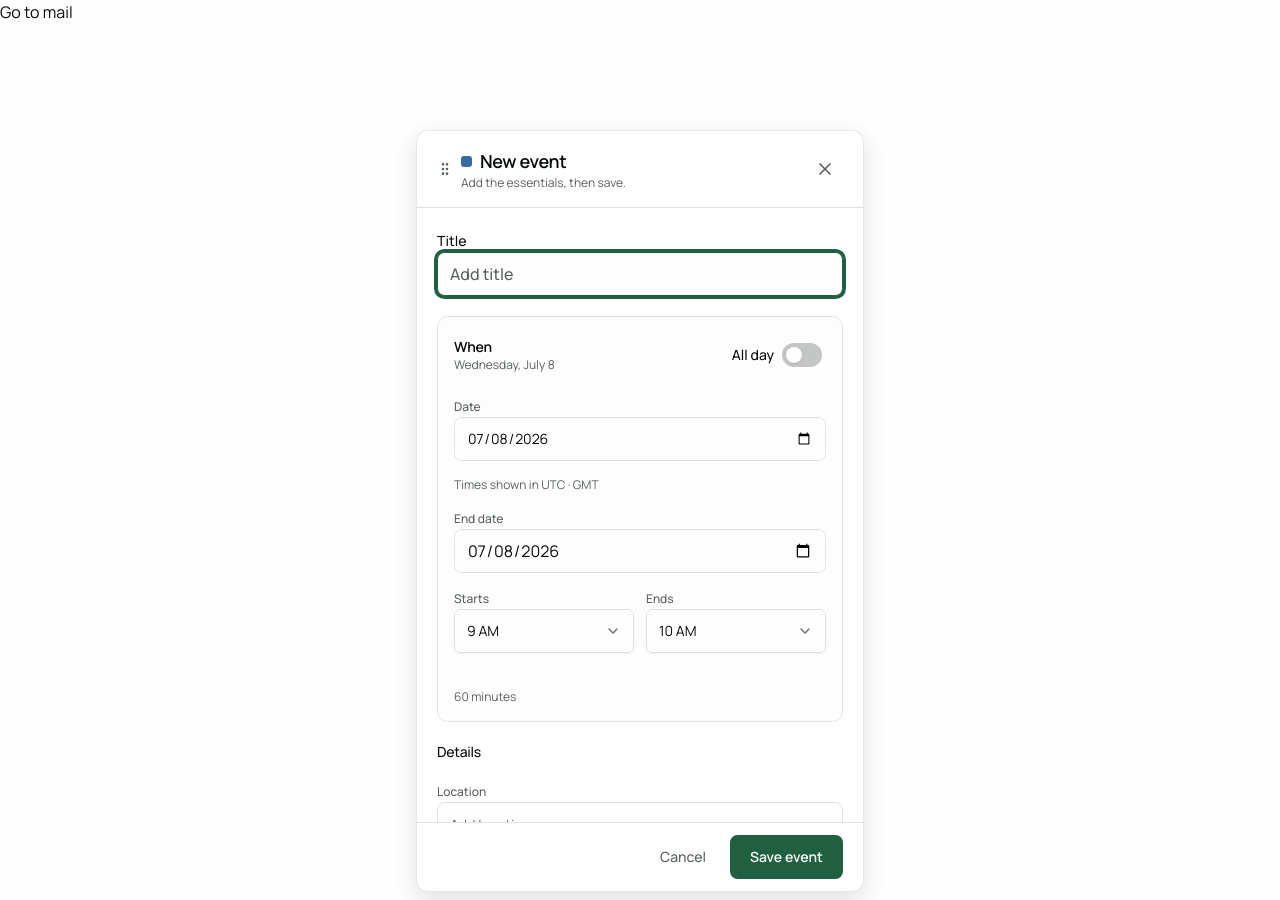
Test case: EventModal navigation protection › keeps edited content on cancelled module navigation, then proceeds only on discard
The width and height of the screenshot is (1280, 900).
Type "Keep meeting" into the field labelled "Title" at (640, 274), box [437, 252, 843, 296]
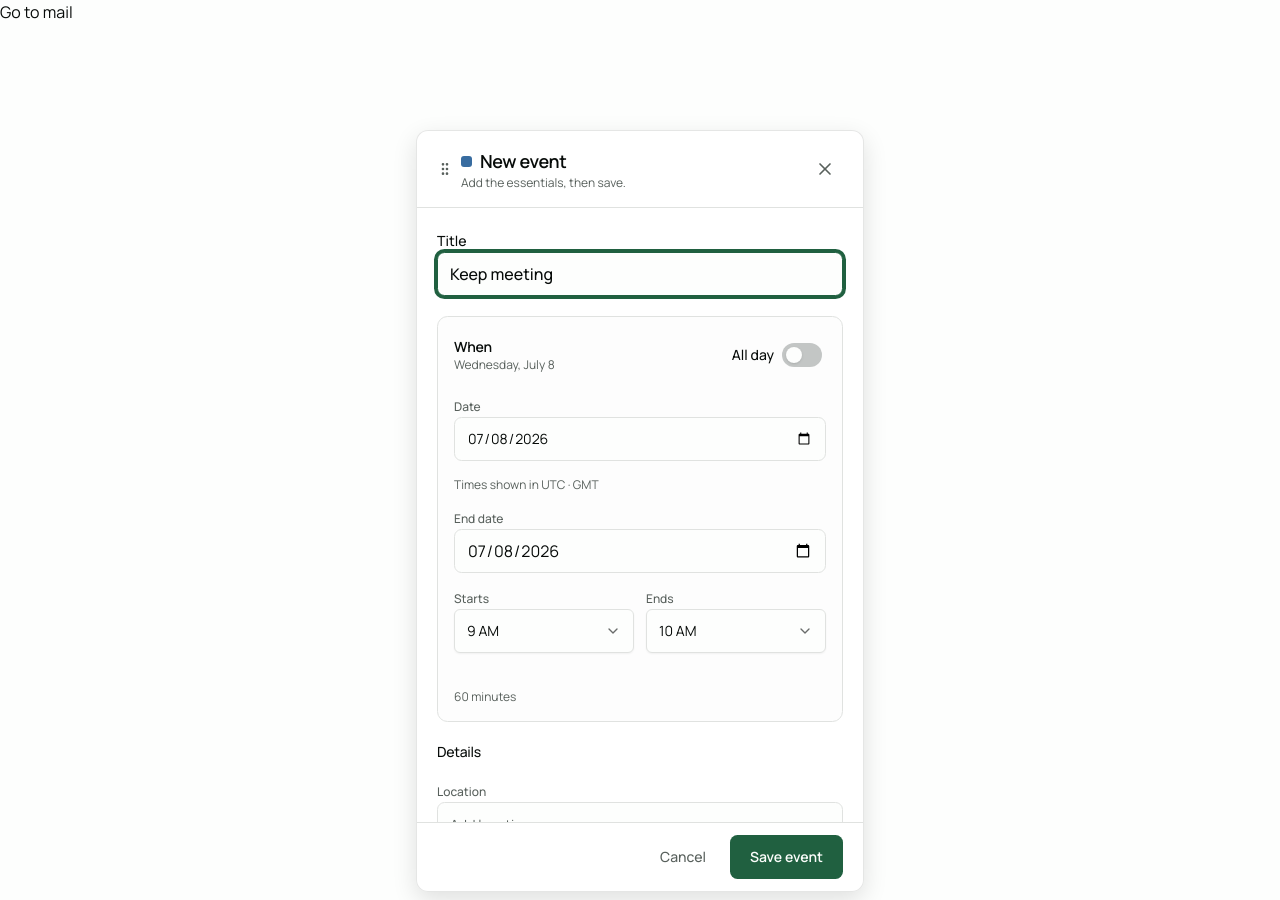
Click the link "Go to mail" at (36, 12), box [0, 1, 73, 23]
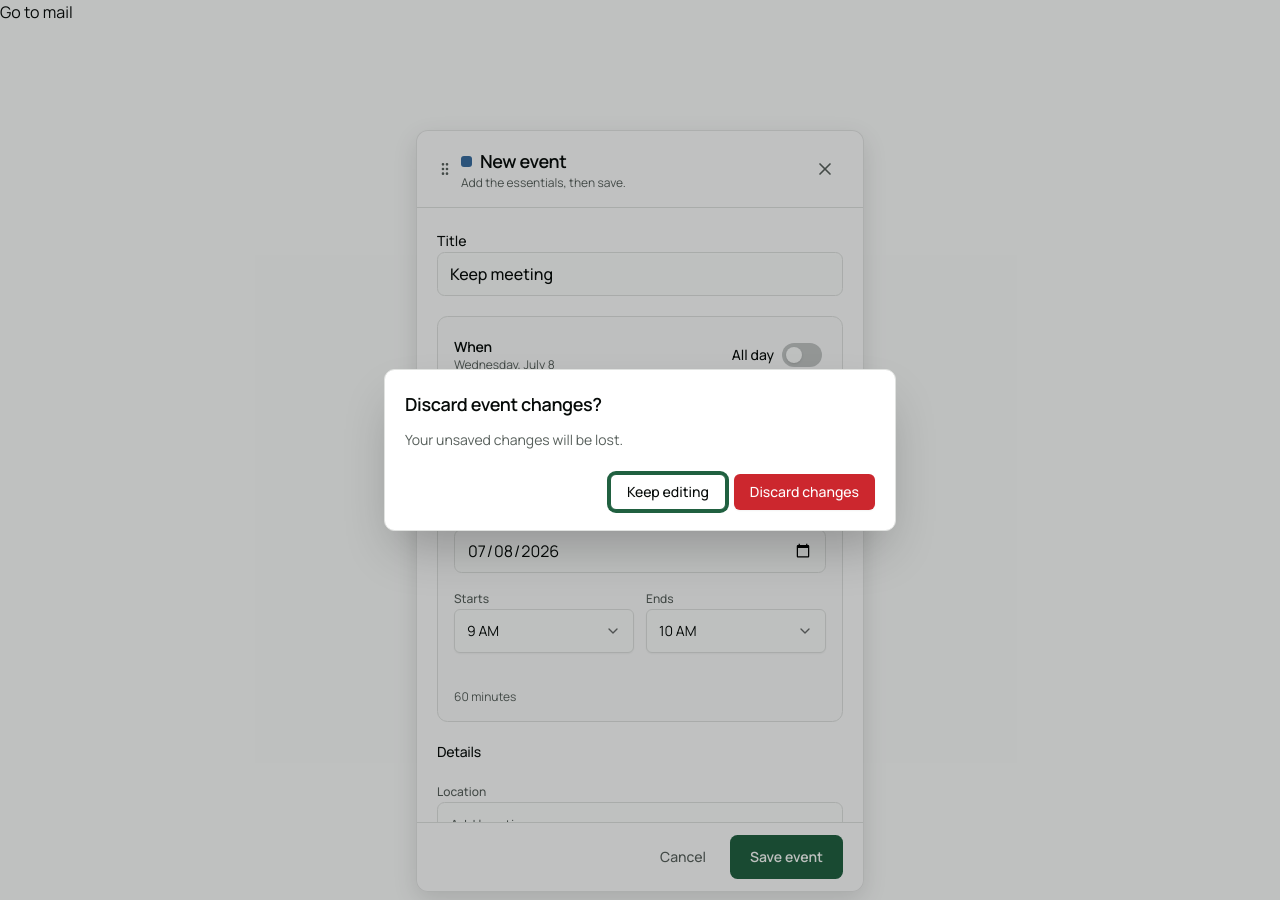
Now the dialog "Discard event changes?" is shown, box [384, 369, 896, 531]
Click the button "Keep editing" at (668, 492), box [610, 474, 726, 510]
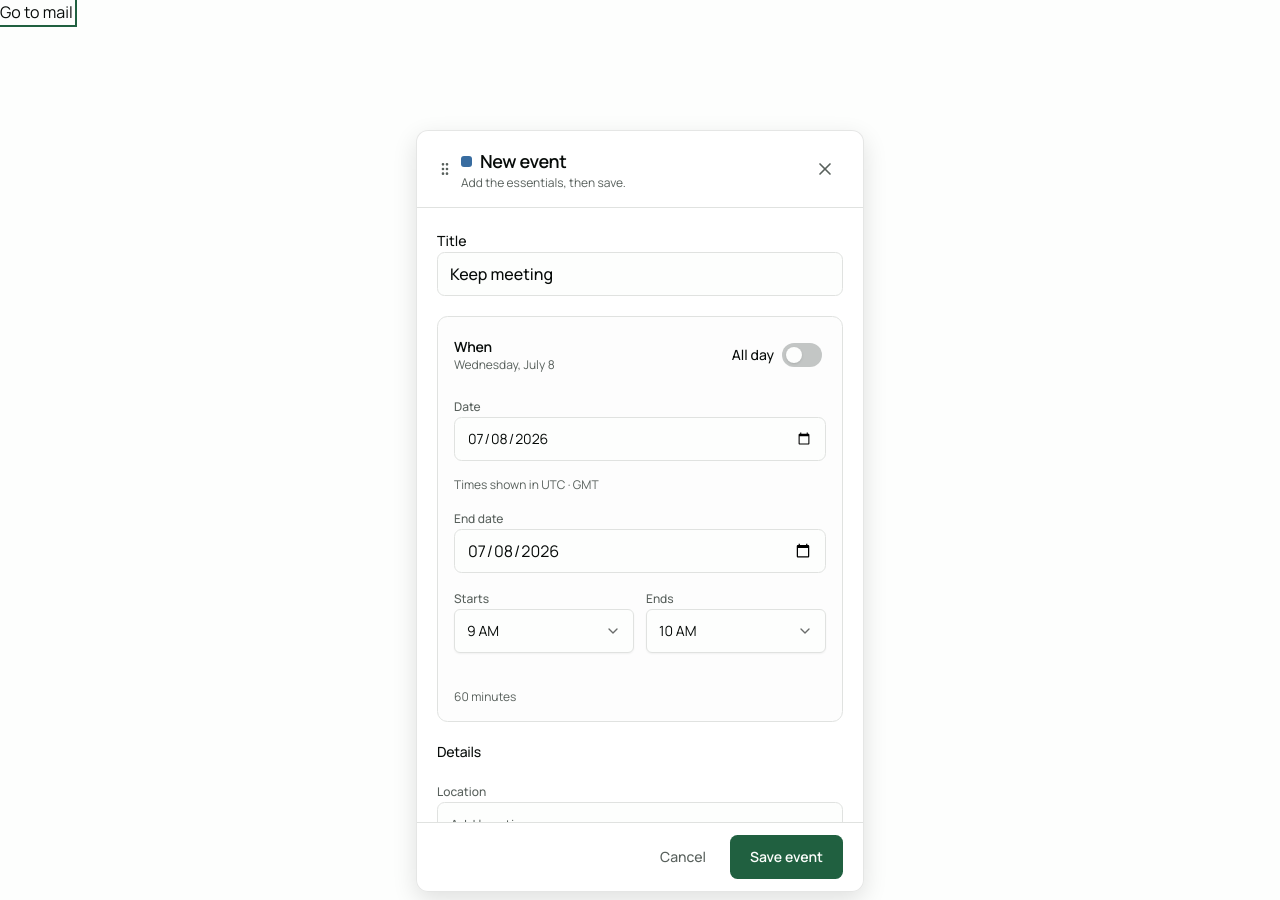
Click the link "Go to mail" at (36, 12), box [0, 1, 73, 23]
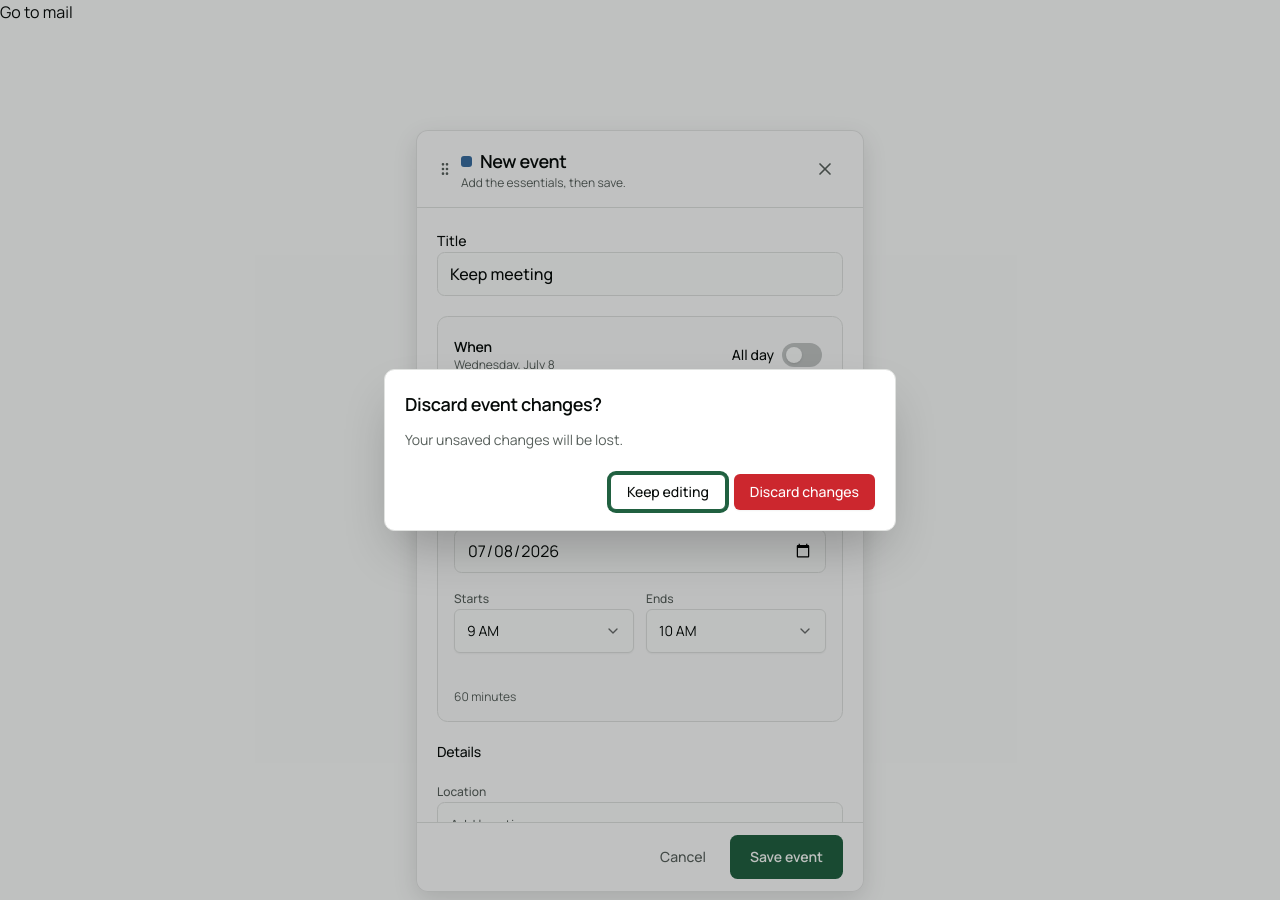
Click the button "Discard changes" at (804, 492), box [734, 474, 875, 510]
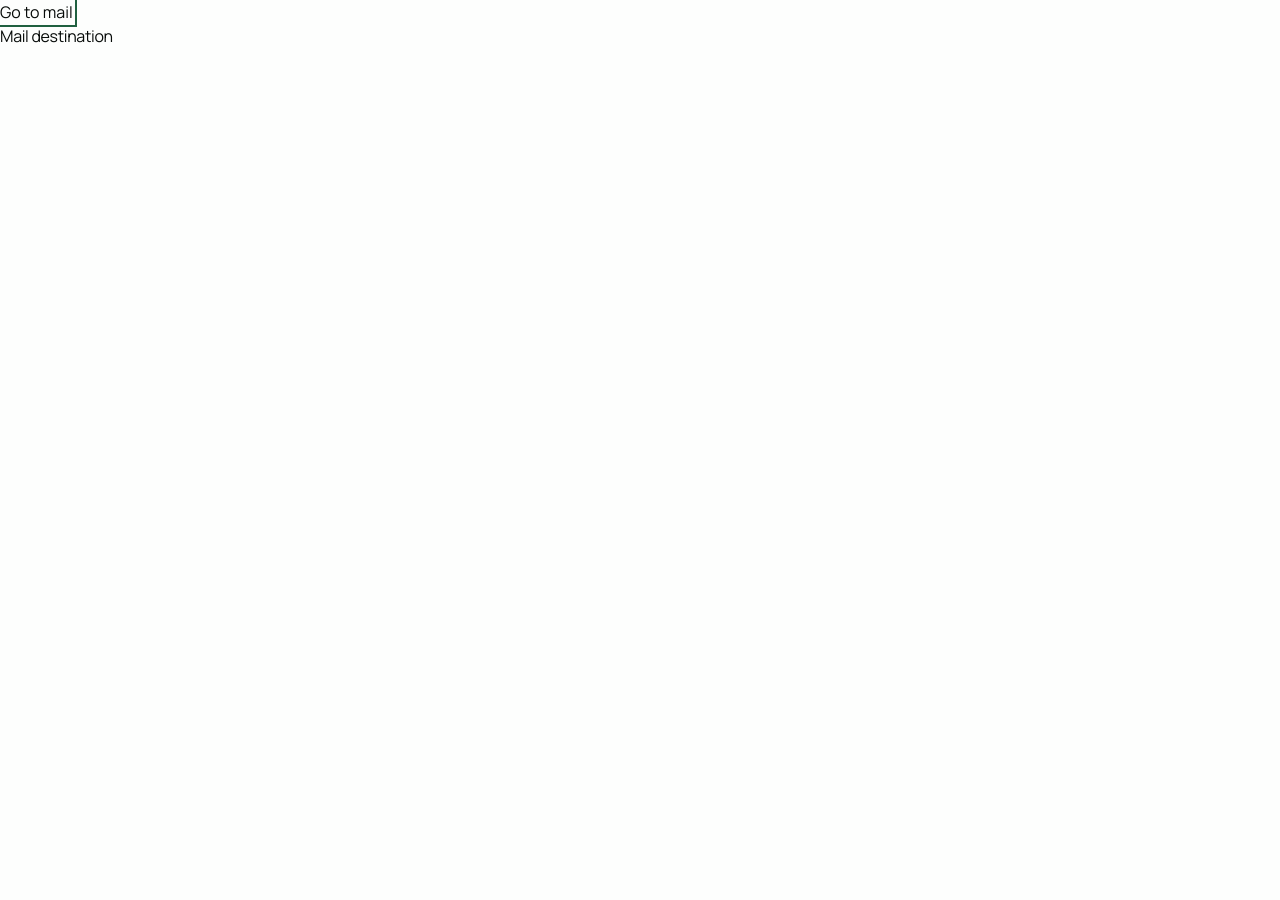
Now the heading "Mail destination" is shown, box [0, 25, 113, 47]
